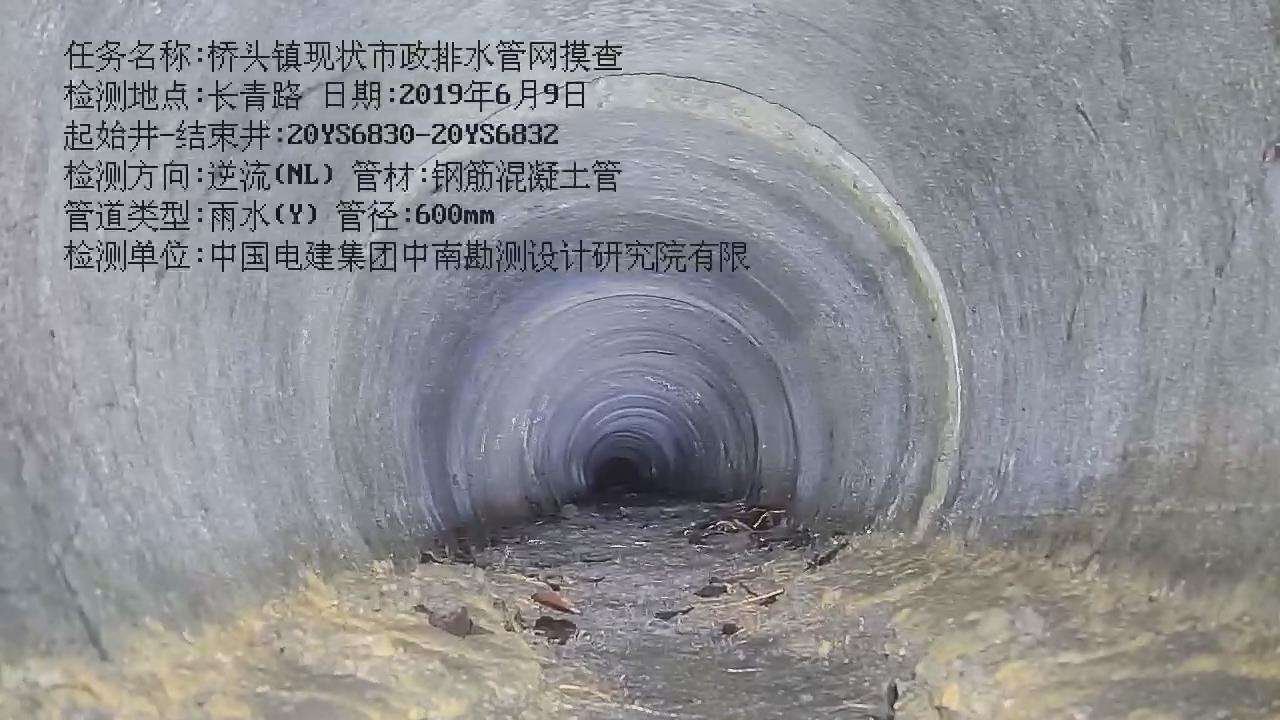CJ: (0, 496, 1279, 719)
CKTJ: (323, 65, 967, 551)
